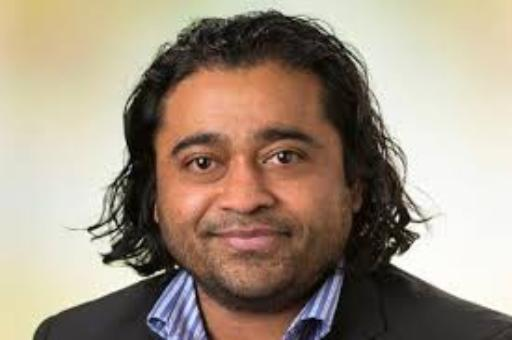left_eye: (266, 151, 311, 168)
left_lip_corner: (277, 230, 299, 243)
right_eye: (181, 156, 225, 174)
right_lip_corner: (200, 229, 226, 244)
